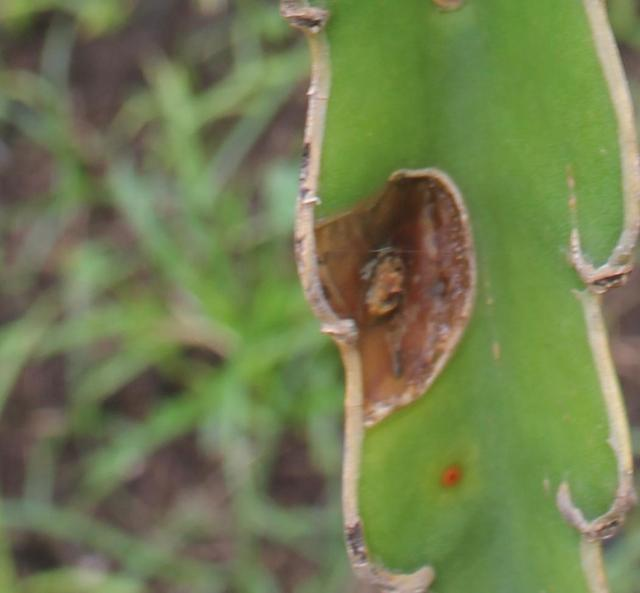stemcanker: (279, 155, 489, 425)
